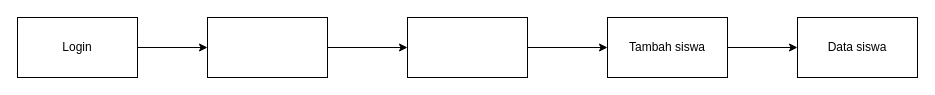
Some shapes in this 935 by 95 pixel diagram are drawn without their labels. The shapes that lost their labels are listed below. From the top down, each one's box as (x1, y1, x2, y2) in pixels, then its label:
(206, 16, 328, 78): Isi kehadiran
(406, 16, 528, 78): Riwayat
